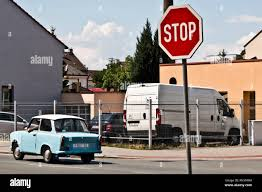stop sign: (158, 3, 204, 60)
